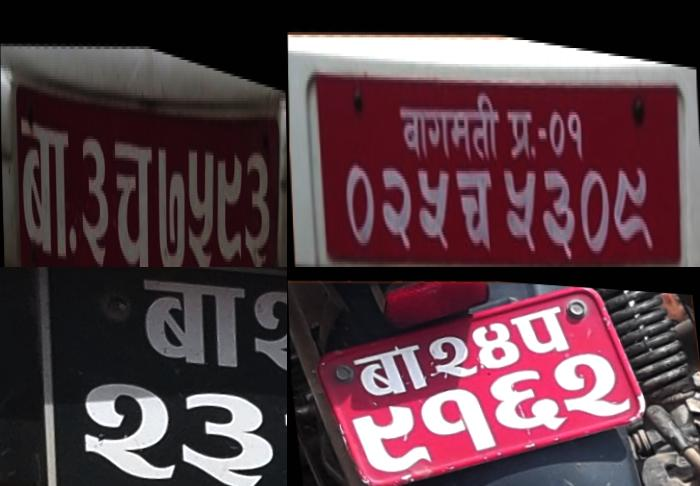0: (351, 337, 427, 399), (340, 151, 378, 252), (578, 150, 613, 251), (546, 95, 566, 154)
1: (550, 343, 630, 415), (426, 331, 479, 376), (564, 94, 588, 155)
2: (65, 367, 180, 486), (245, 274, 287, 377), (376, 150, 414, 254)
3: (169, 369, 279, 486), (417, 381, 495, 452), (78, 109, 112, 267), (241, 113, 274, 267), (540, 152, 578, 255)
4: (484, 361, 564, 429)
5: (184, 114, 217, 267), (413, 152, 454, 262), (500, 152, 540, 251), (469, 316, 521, 369)
7: (154, 114, 188, 267)
8: (508, 299, 572, 354)
9: (214, 117, 246, 267), (608, 147, 654, 248)
ba: (130, 267, 254, 380), (18, 90, 72, 267), (398, 92, 428, 162)
cha: (110, 104, 157, 267), (452, 151, 497, 256)
lu: (347, 399, 431, 473)
